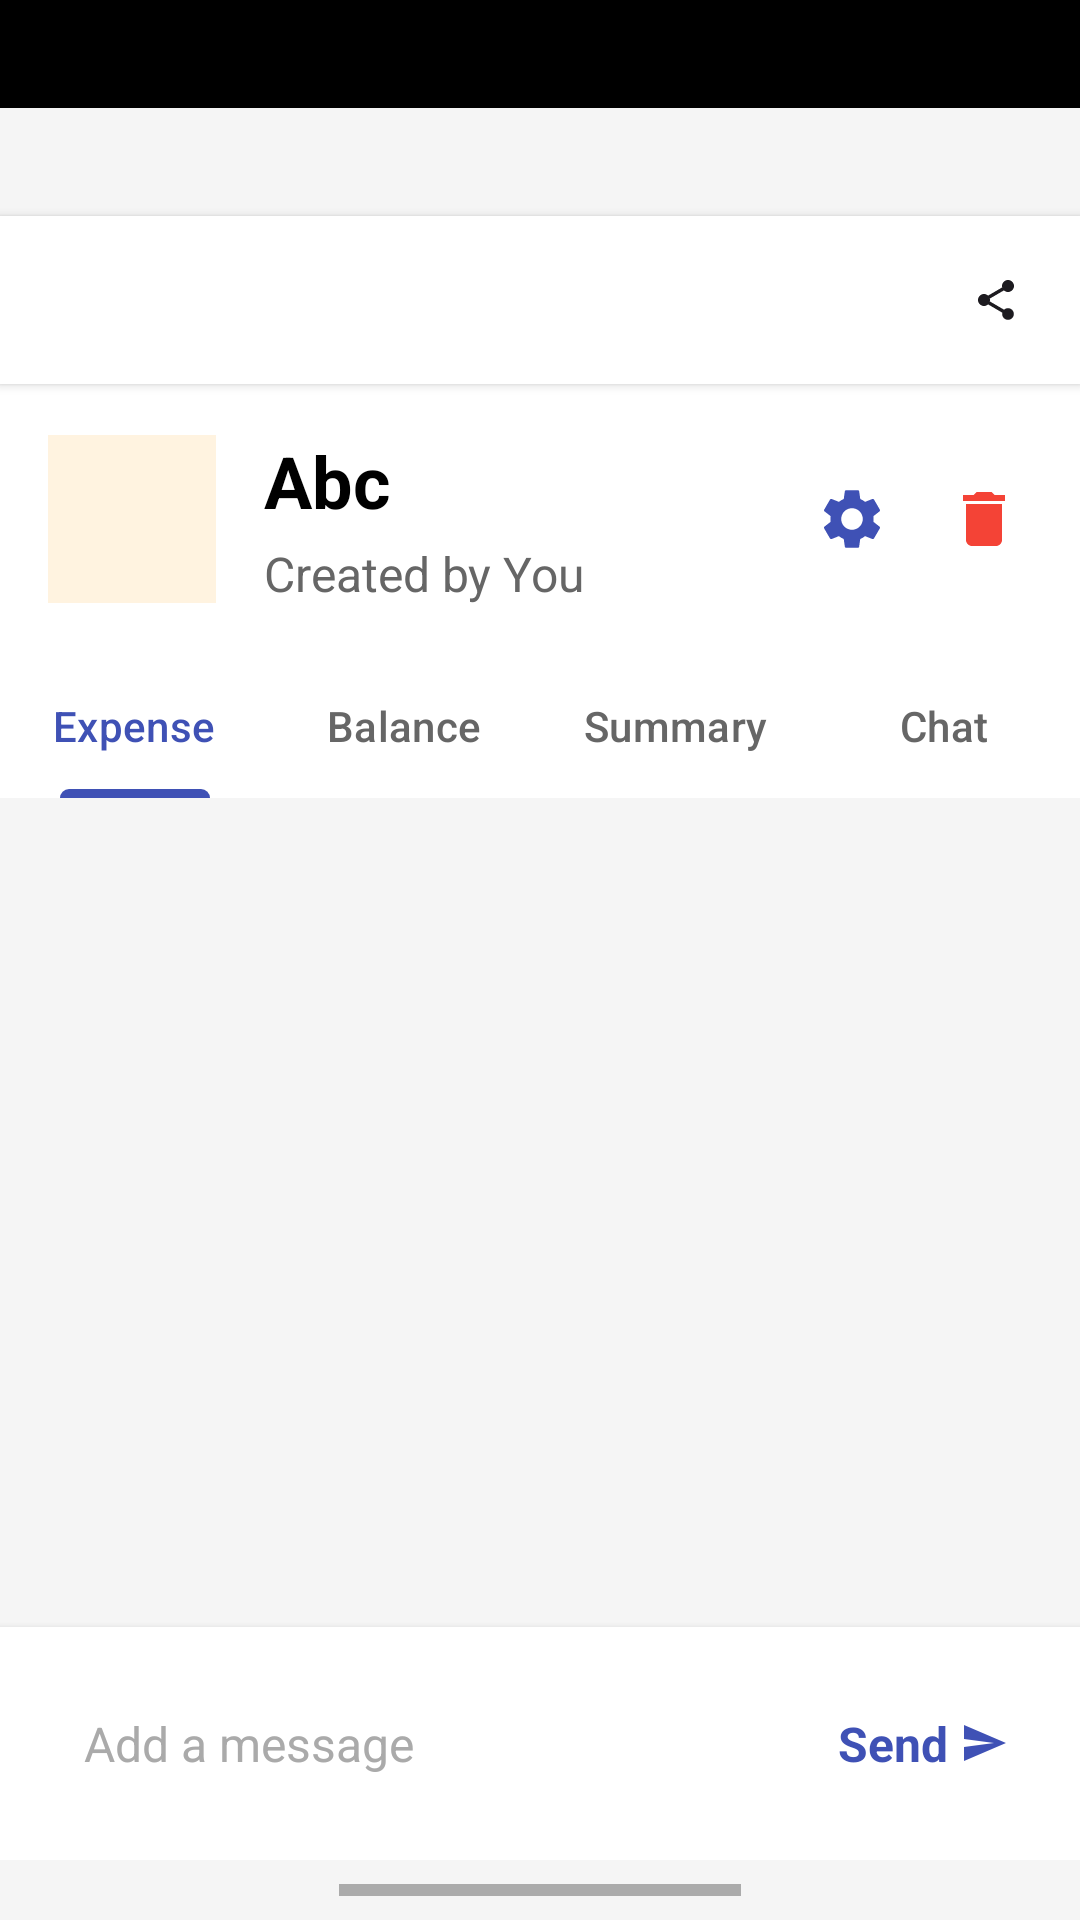

Where to tap for icons on this 1080x1920 app screen, as (x=x, y=y):
Delete: (x=984, y=519)
Settings: (x=852, y=519)
Share: (x=996, y=300)
